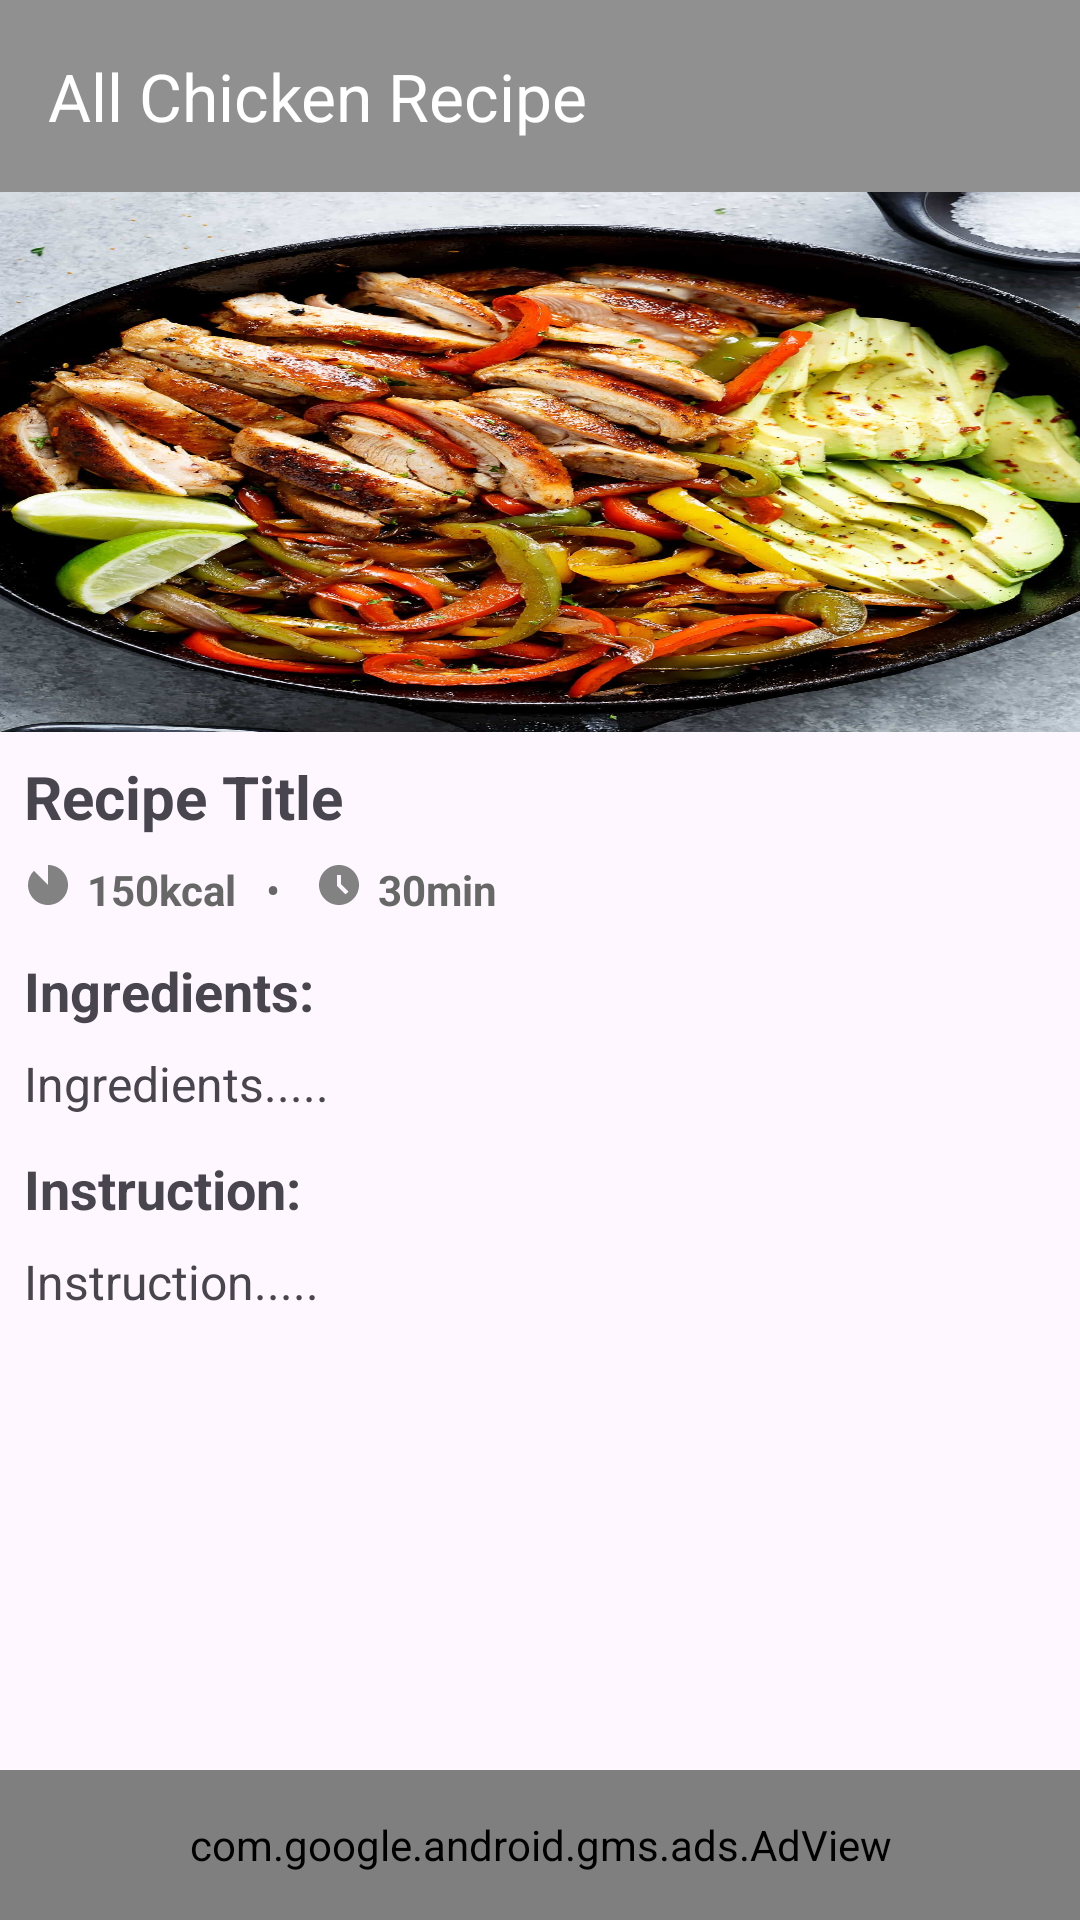

Icons on this 1080 x 1920 Android screen, each with its box as box(x1, y1, x2, y2):
calories: box(28, 865, 68, 905)
time: box(319, 865, 359, 905)
